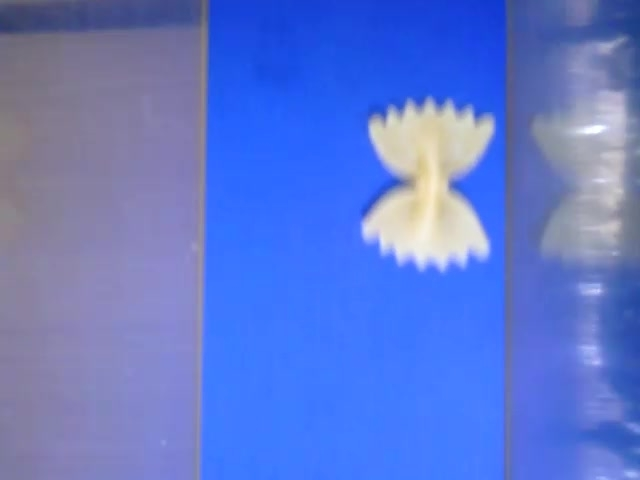farfalle: (361, 97, 497, 275)
